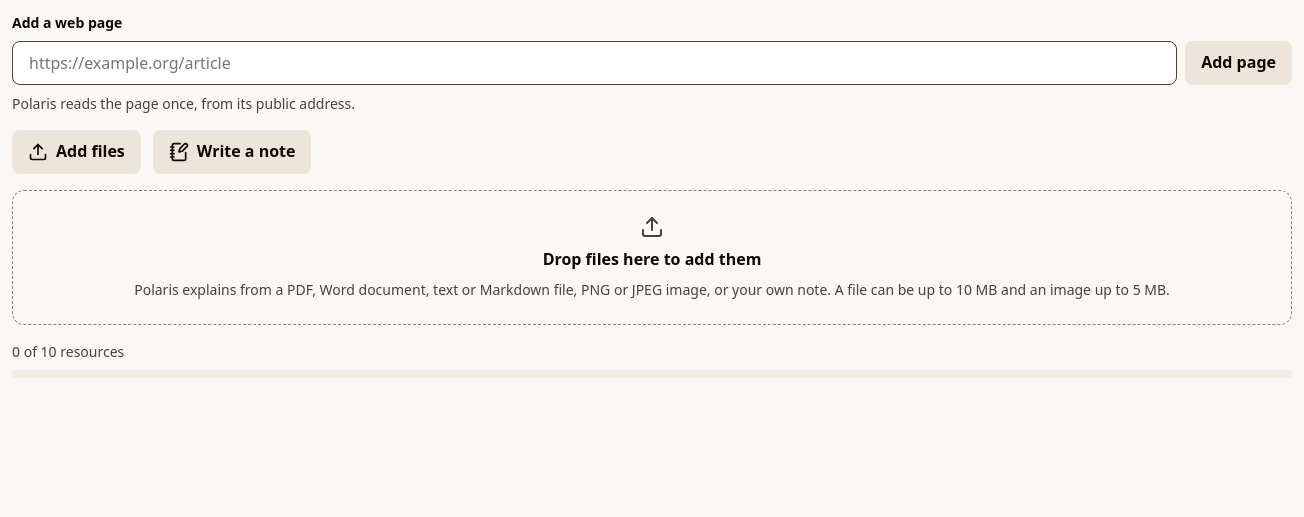
Scenario: a web page is added by its link and shows where it came from (RS-22)
The width and height of the screenshot is (1304, 517).
Expected: the text "0 of 10 resources" is shown, [12, 342, 124, 361]
In the field labelled "Add a web page": [595, 63] box [12, 41, 1177, 85], type "https://www.example.org/plants"
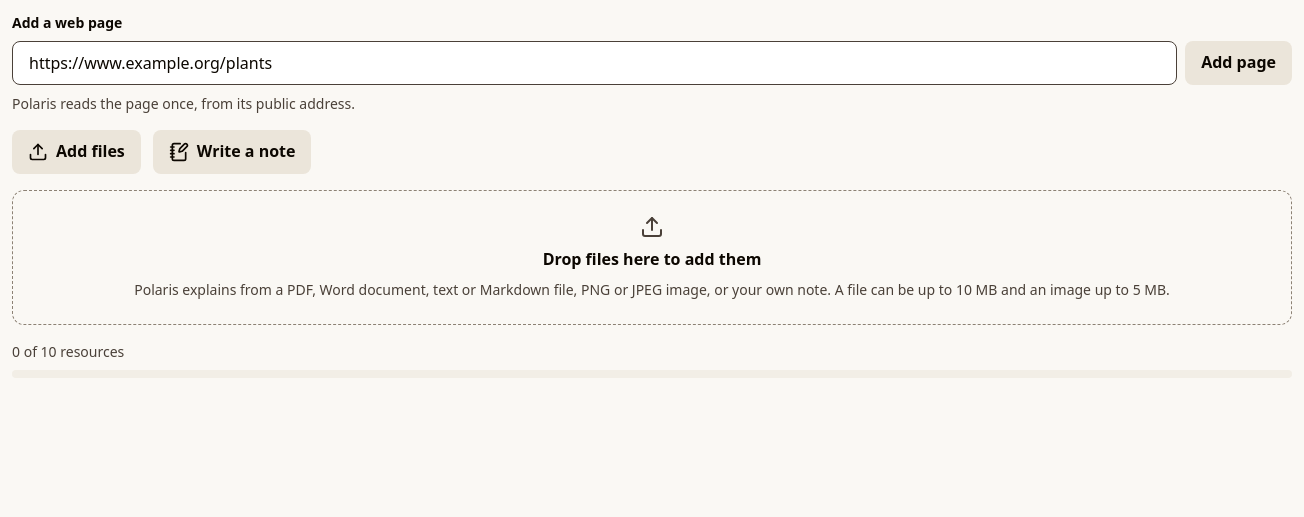
Click the button "Add page": [1239, 63] box [1185, 41, 1292, 85]
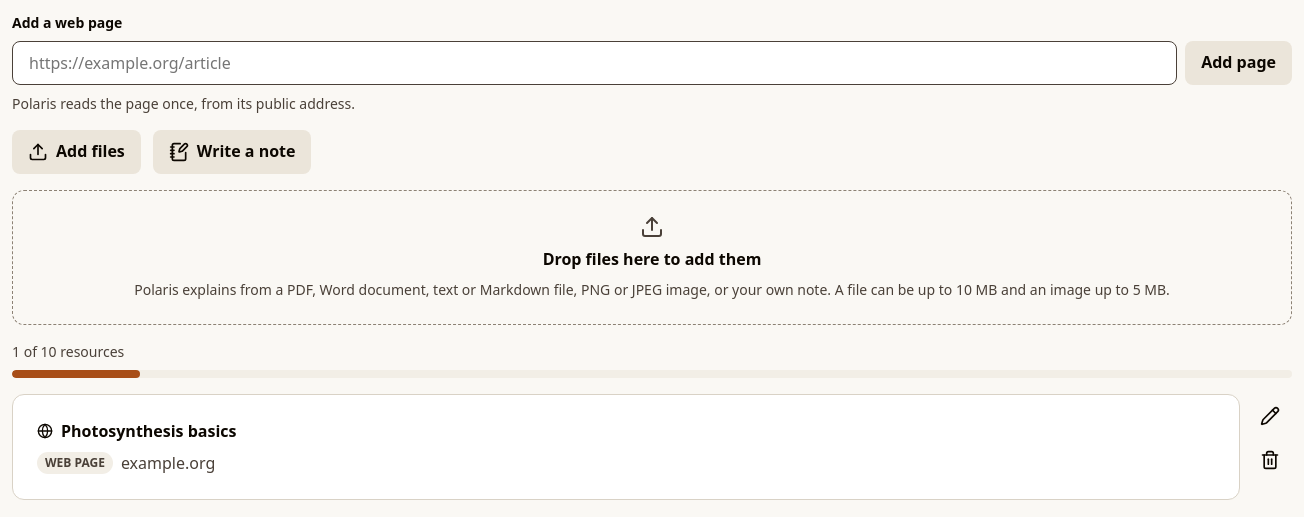
Expected: the text "Photosynthesis basics" is shown, [61, 419, 236, 443]
Expected: the text "Web page" is shown, [37, 452, 113, 474]
Expected: the text "example.org" is shown, [121, 451, 215, 475]
Click the button "Photosynthesis basics Web page example.org": [149, 431] box [12, 394, 1240, 500]
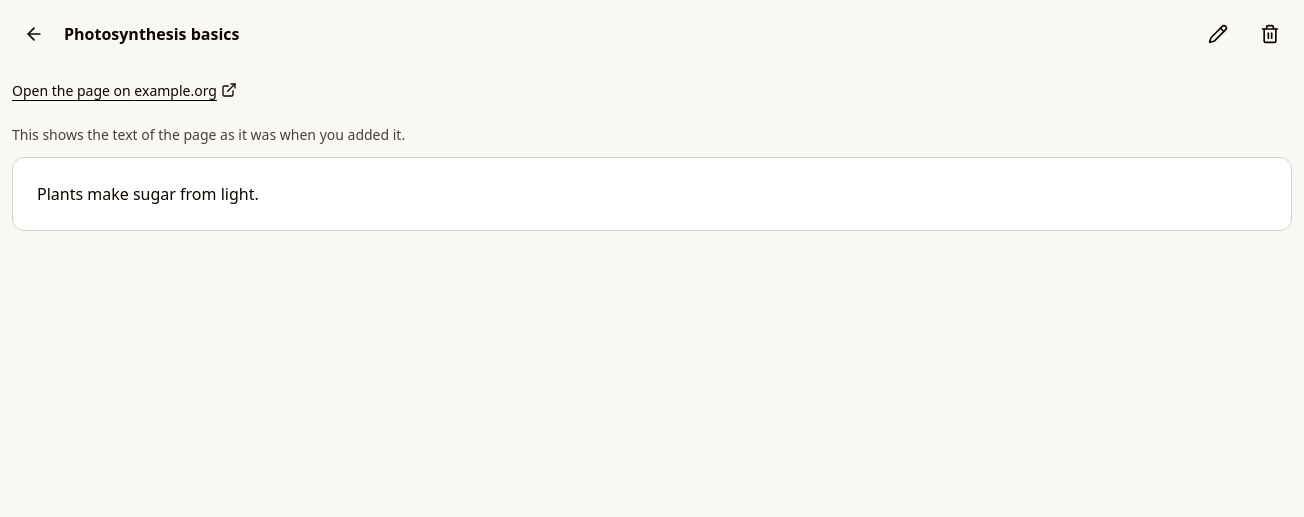
Expected: the text "Plants make sugar from light." is shown, [12, 157, 1292, 231]
